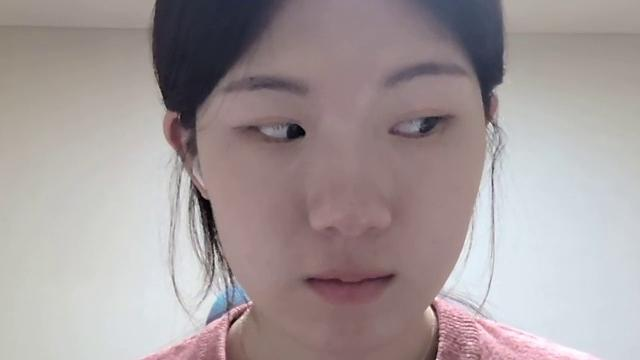eye: (287, 121, 313, 145), (420, 115, 446, 139)
iris: (248, 118, 307, 140), (389, 116, 444, 137)
